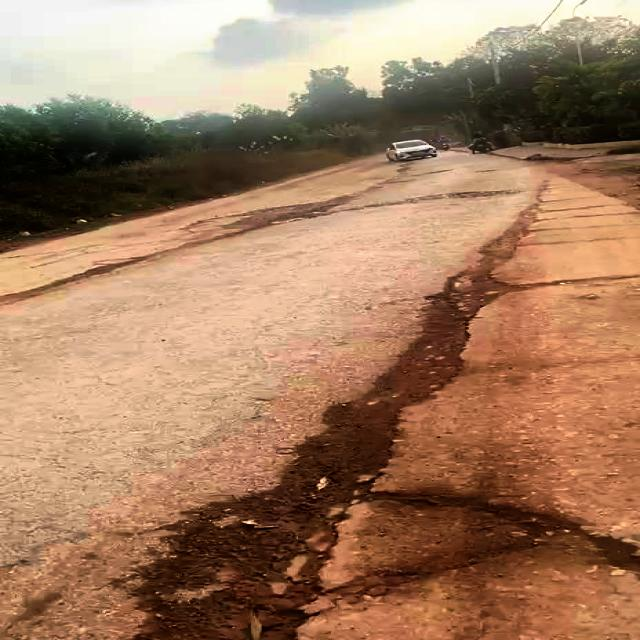pothole: (156, 463, 403, 640), (437, 274, 505, 328)
